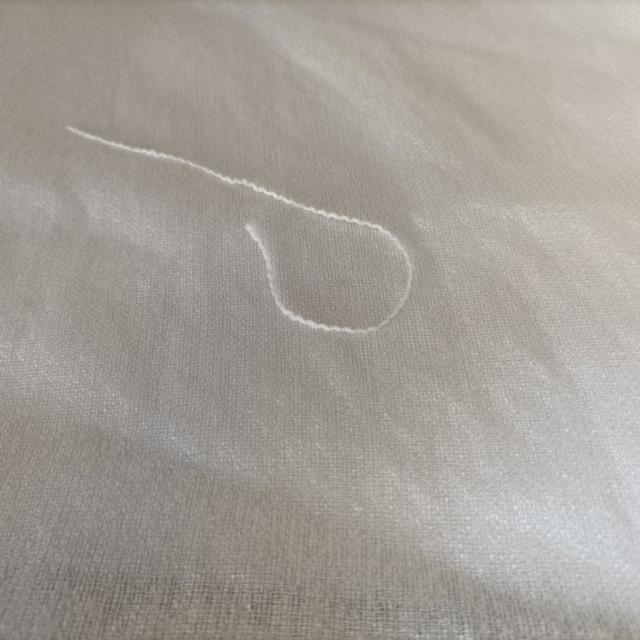Thread: (64, 121, 415, 336)
